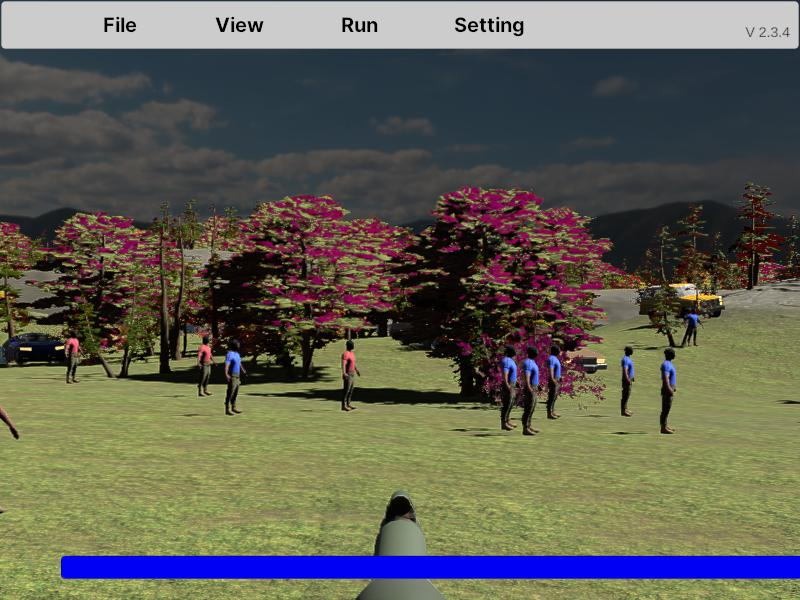Human: (0, 352, 19, 518), (225, 338, 246, 415), (524, 346, 542, 435), (502, 346, 520, 430), (660, 347, 677, 434), (342, 339, 360, 412), (546, 345, 562, 420), (620, 345, 635, 417), (198, 334, 215, 397), (65, 329, 83, 384)
car: (638, 284, 724, 319), (2, 332, 67, 366), (666, 284, 724, 318)
